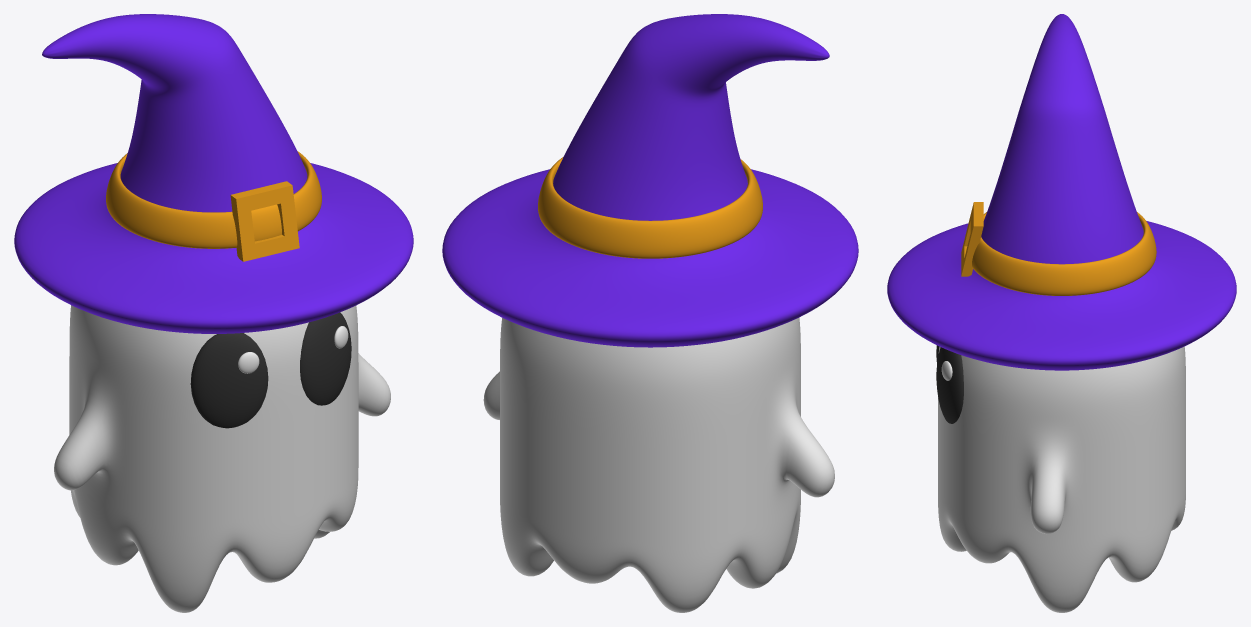
The model's file is ghost.fbx.
3 renders of one model, left to right at view 1: azimuth 30°, elevation 25°; view 2: azimuth 150°, elevation 25°; view 3: azimuth 270°, elevation 25°, orthographic. The views are drawn at different scales.
Visible parts, largest first — view 1: hat, ghost, eyes, Cylinder.001, Plane; view 2: hat, ghost, Cylinder.001; view 3: hat, ghost, Cylinder.001, eyes, Plane.
Part boxes in pixels (x1,y1,x2,y2): hat: (14,14,413,333); ghost: (54,305,390,612); eyes: (190,312,351,428); Cylinder.001: (106,151,321,248); Plane: (230,181,299,261); hat: (442,14,858,347); ghost: (483,318,834,612); Cylinder.001: (538,157,762,258); hat: (887,14,1236,370); ghost: (938,346,1185,612); Cylinder.001: (972,212,1156,295); eyes: (936,345,963,423); Plane: (961,202,983,276).
Size of the model in its own units: 235 by 369 by 235.
